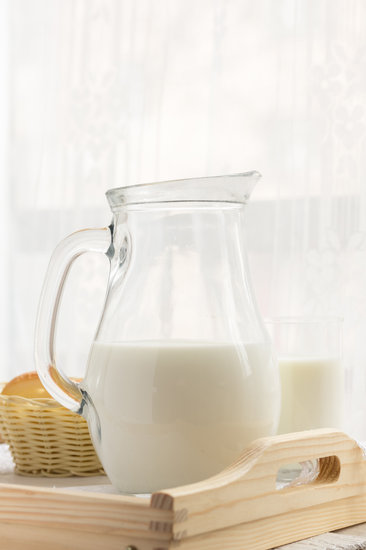glass of milk: (86, 190, 265, 482), (270, 316, 355, 430)
